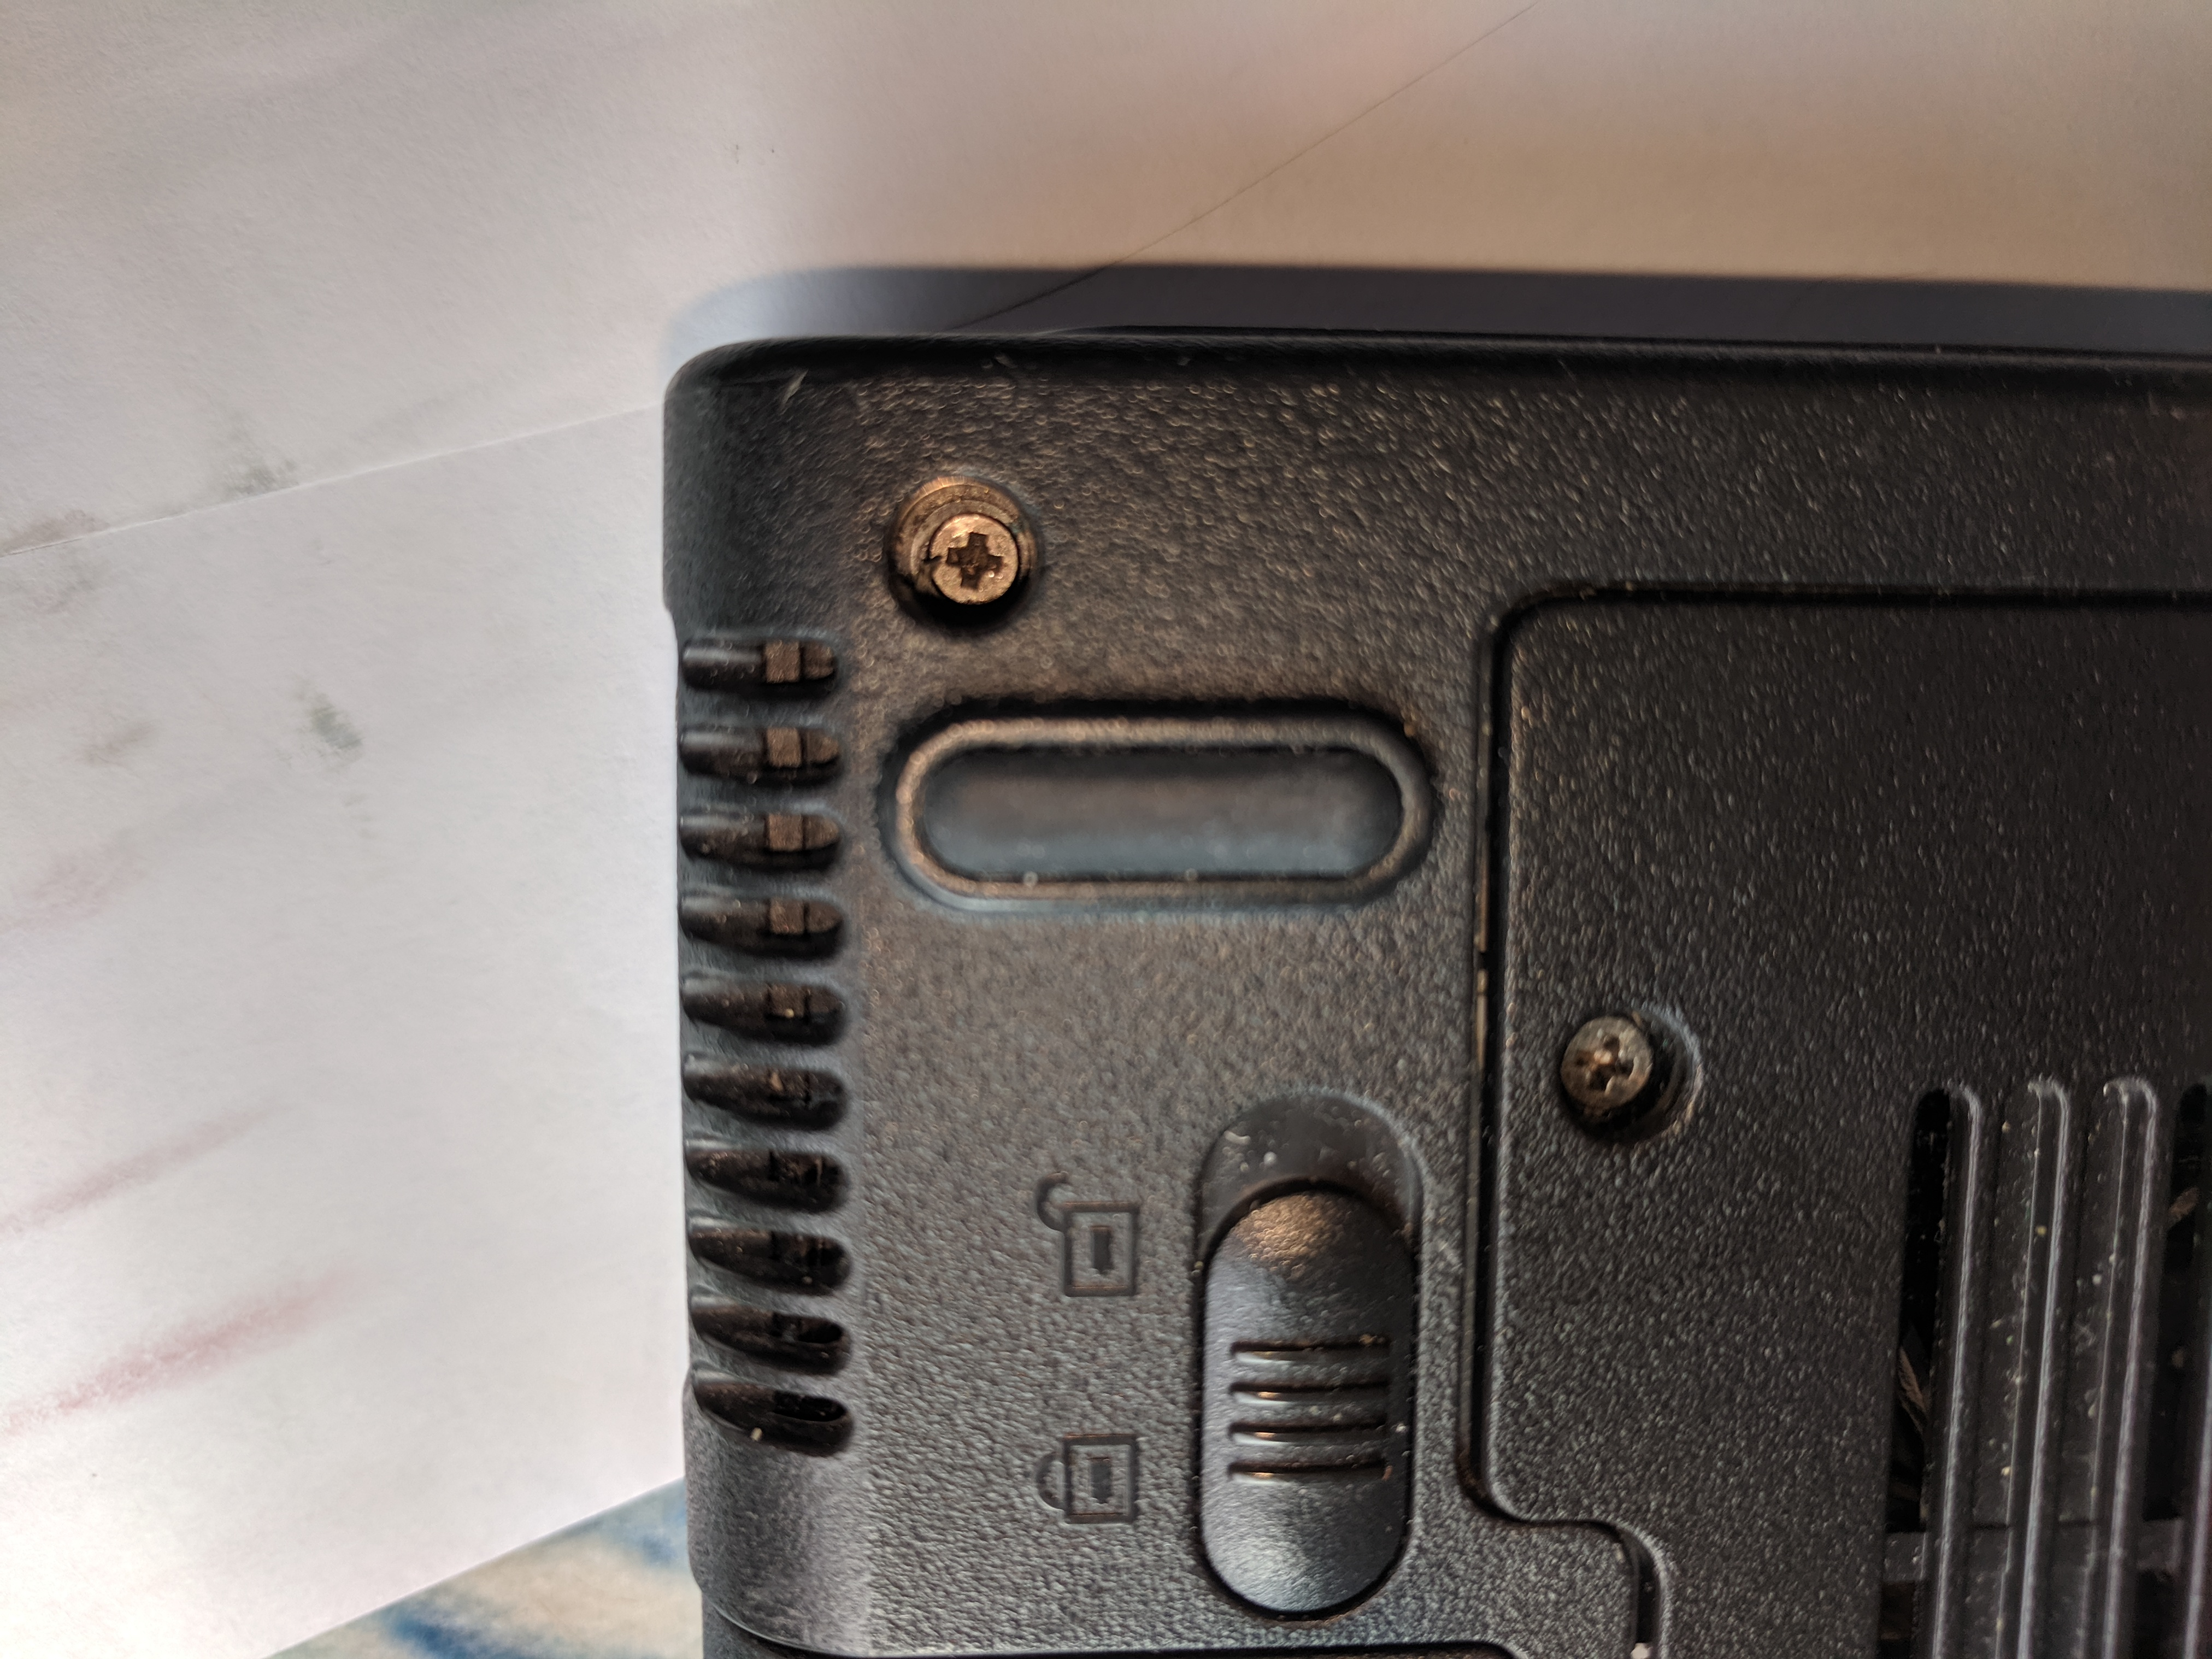cross_recessed_screw: (904, 493, 1035, 615), (1547, 1000, 1665, 1115)
